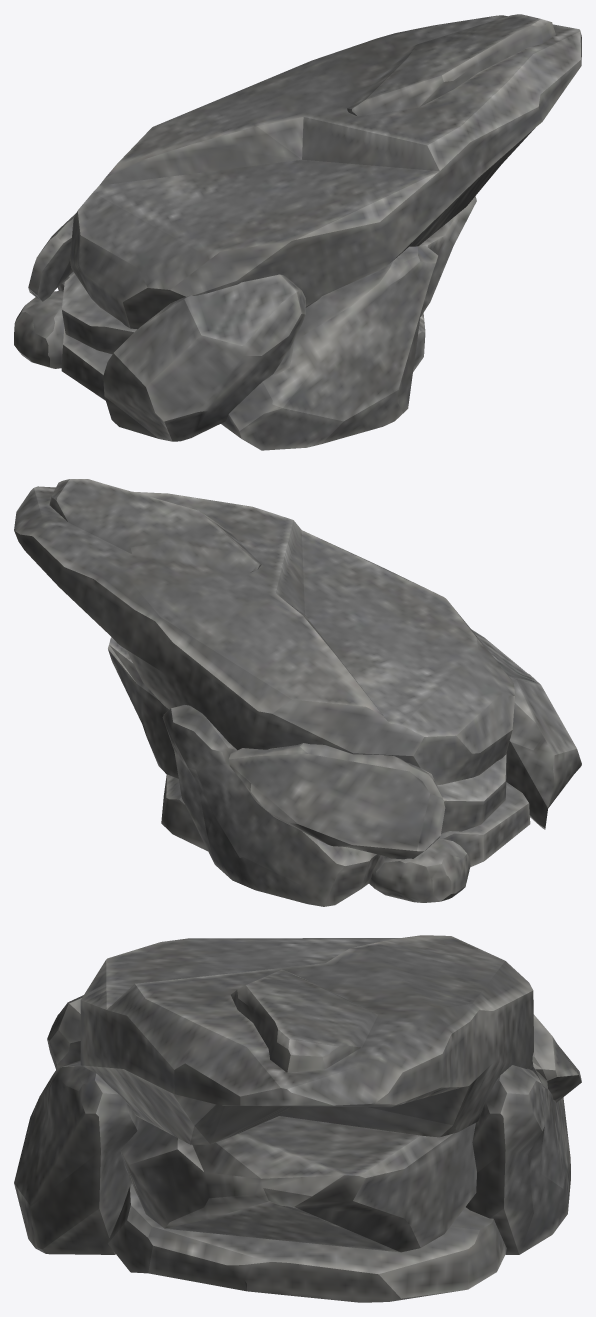
Rendered from RockGroup10_Dream.glb.
3 renders of one model, top to bottom at view 1: azimuth 30°, elevation 25°; view 2: azimuth 150°, elevation 25°; view 3: azimuth 270°, elevation 25°, orthographic. The views are drawn at different scales.
Visible parts, largest first — view 1: rockgroup10_dream; view 2: rockgroup10_dream; view 3: rockgroup10_dream.
Part boxes in pixels (x1,y1,x2,y2): rockgroup10_dream: [14, 14, 581, 450]; rockgroup10_dream: [14, 479, 581, 906]; rockgroup10_dream: [14, 935, 581, 1302].
Size of the model in its own units: 0.8469 by 0.4389 by 0.6107.
1 material, 1 textured.
